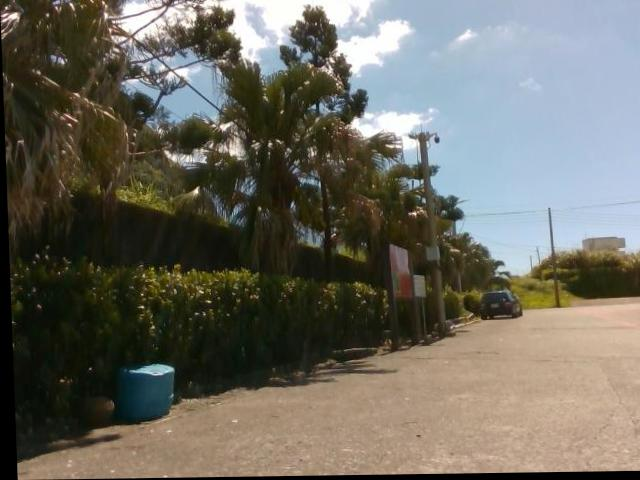pollute: (108, 362, 178, 427)
